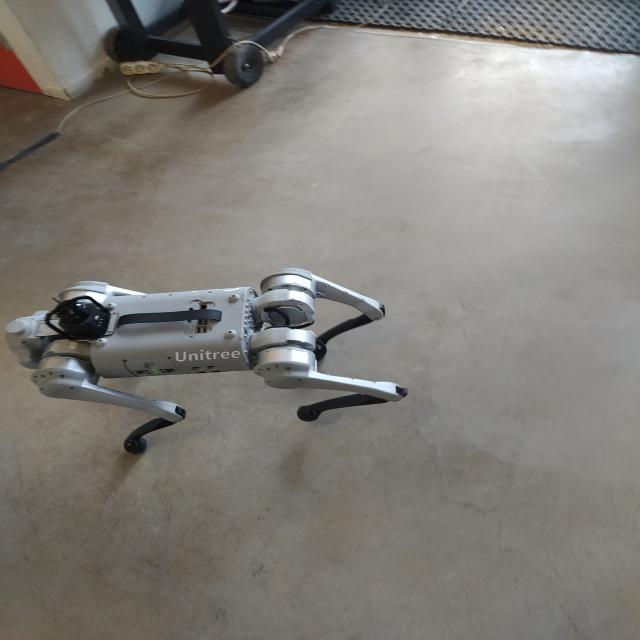unitree-go1-robot: (1, 263, 424, 467)
